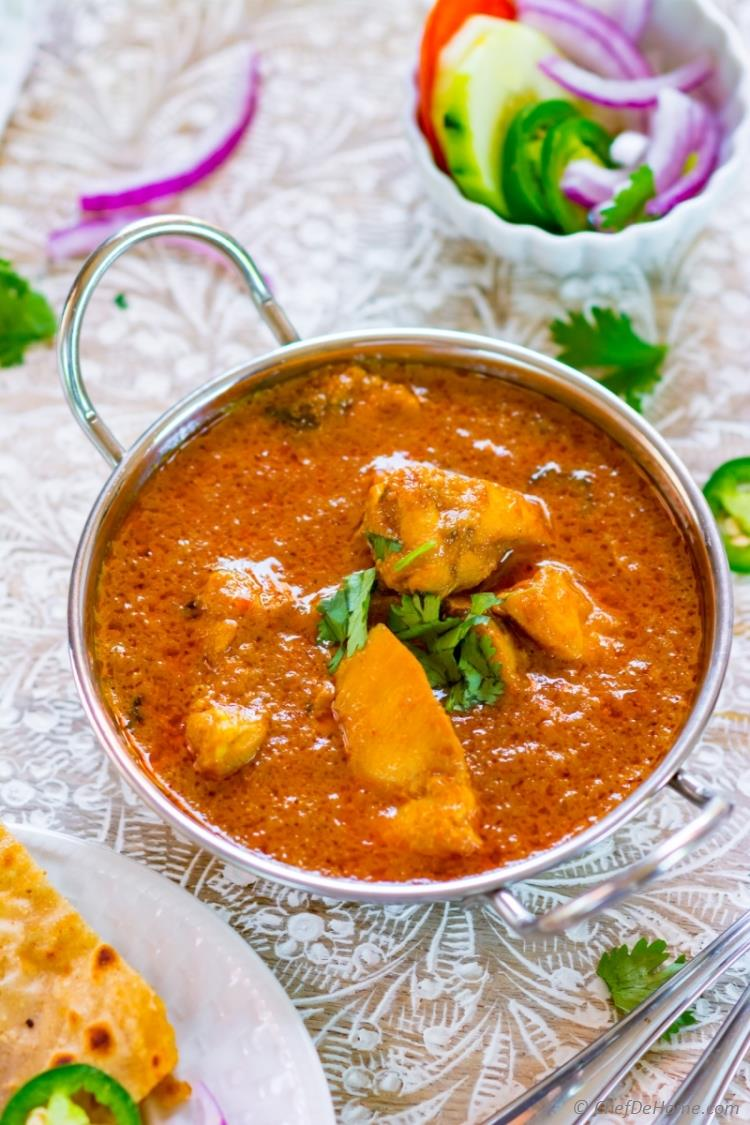chicken_curry: (129, 390, 656, 851)
